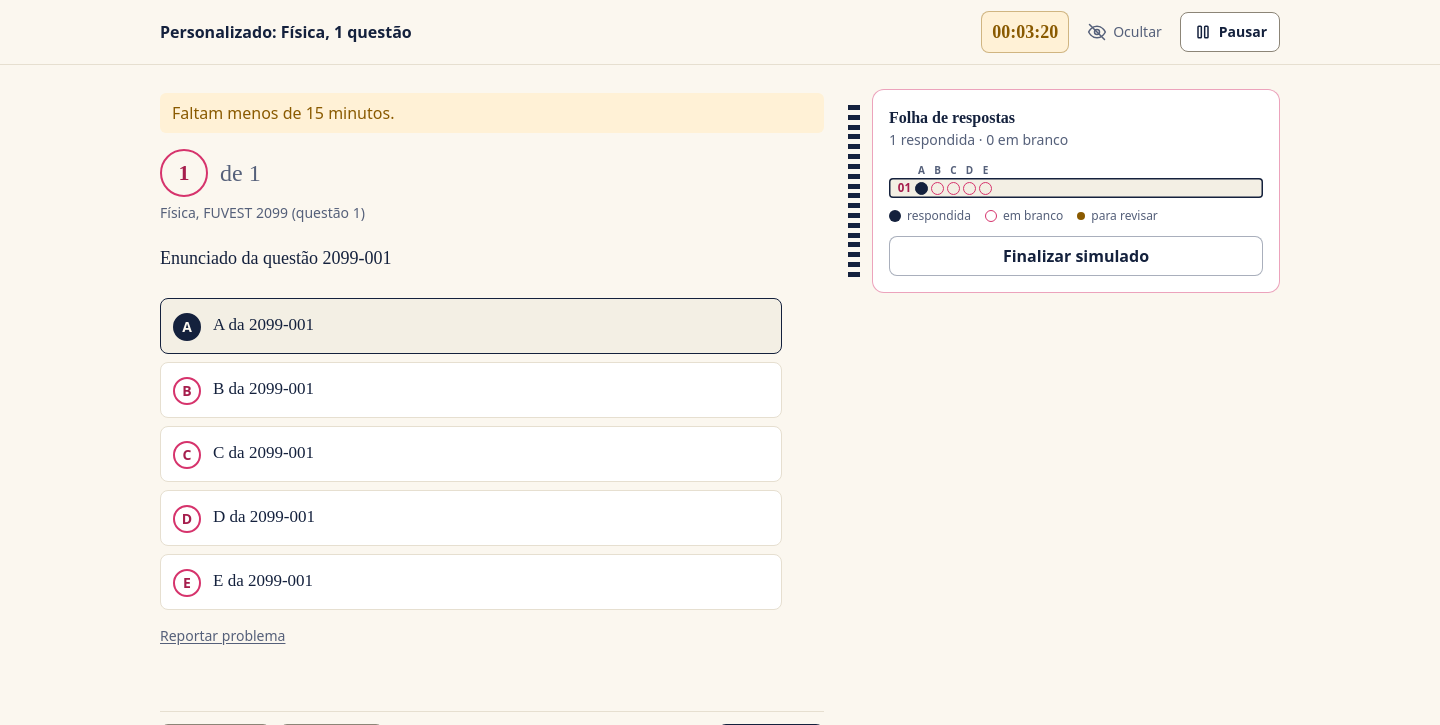
Test: Resultado e finalizar com conta (UT-036) › simulado finalizado com conta vai para o servidor
Expected: the text "Enunciado da questão 2099-001" is shown, x1=160 y1=248 x2=392 y2=268
Click the button "Finalizar simulado": x=1076, y=256 x1=889 y1=236 x2=1263 y2=276
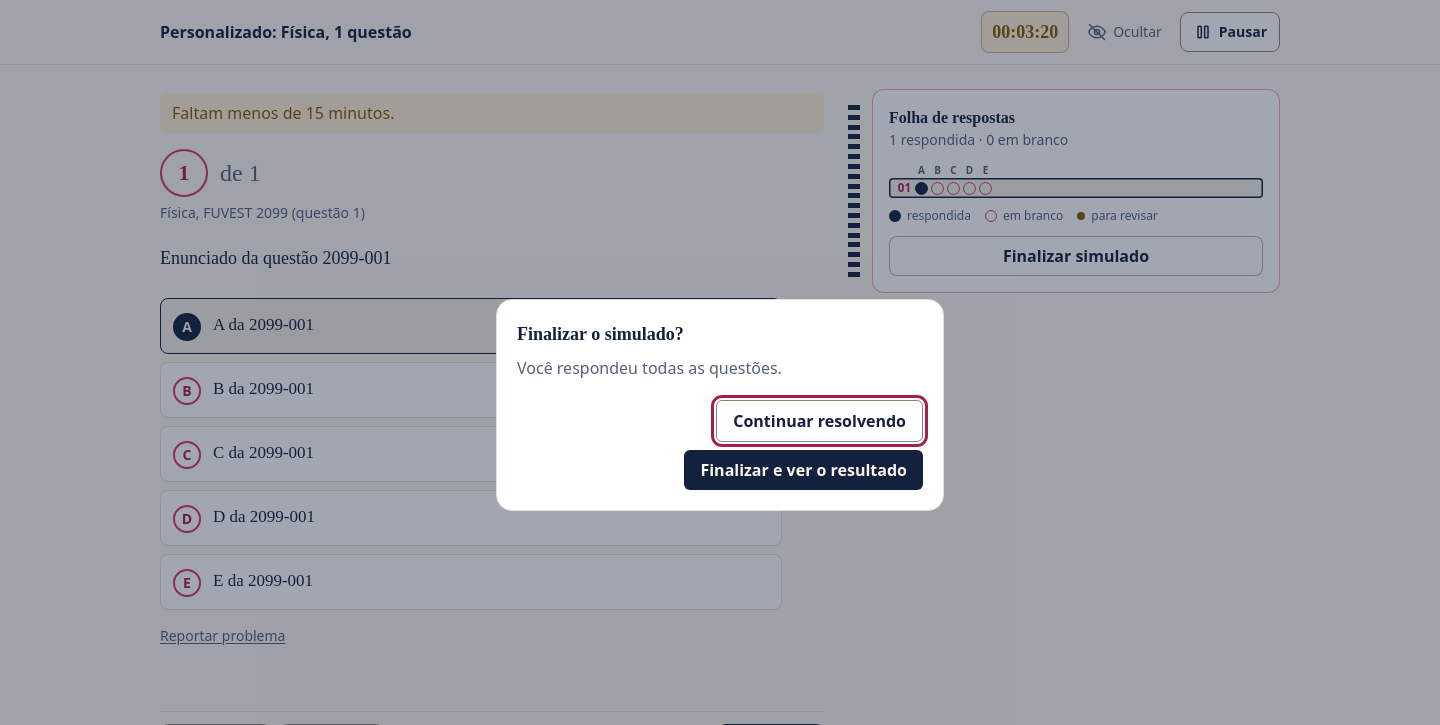
Click the button "Finalizar e ver o resultado": x=804, y=470 x1=684 y1=450 x2=923 y2=490
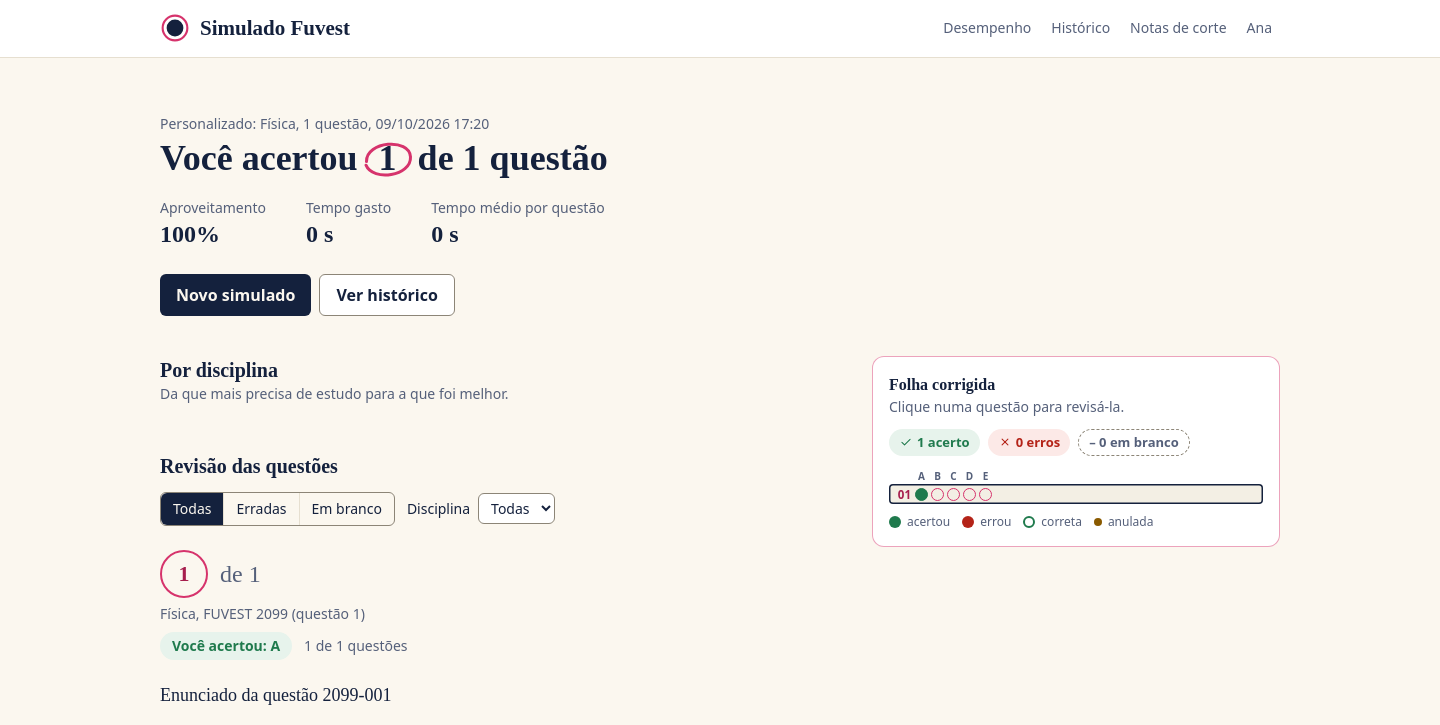
Expected: the heading "Você acertou 1 de 1 questão" is shown, x1=160 y1=134 x2=608 y2=182
